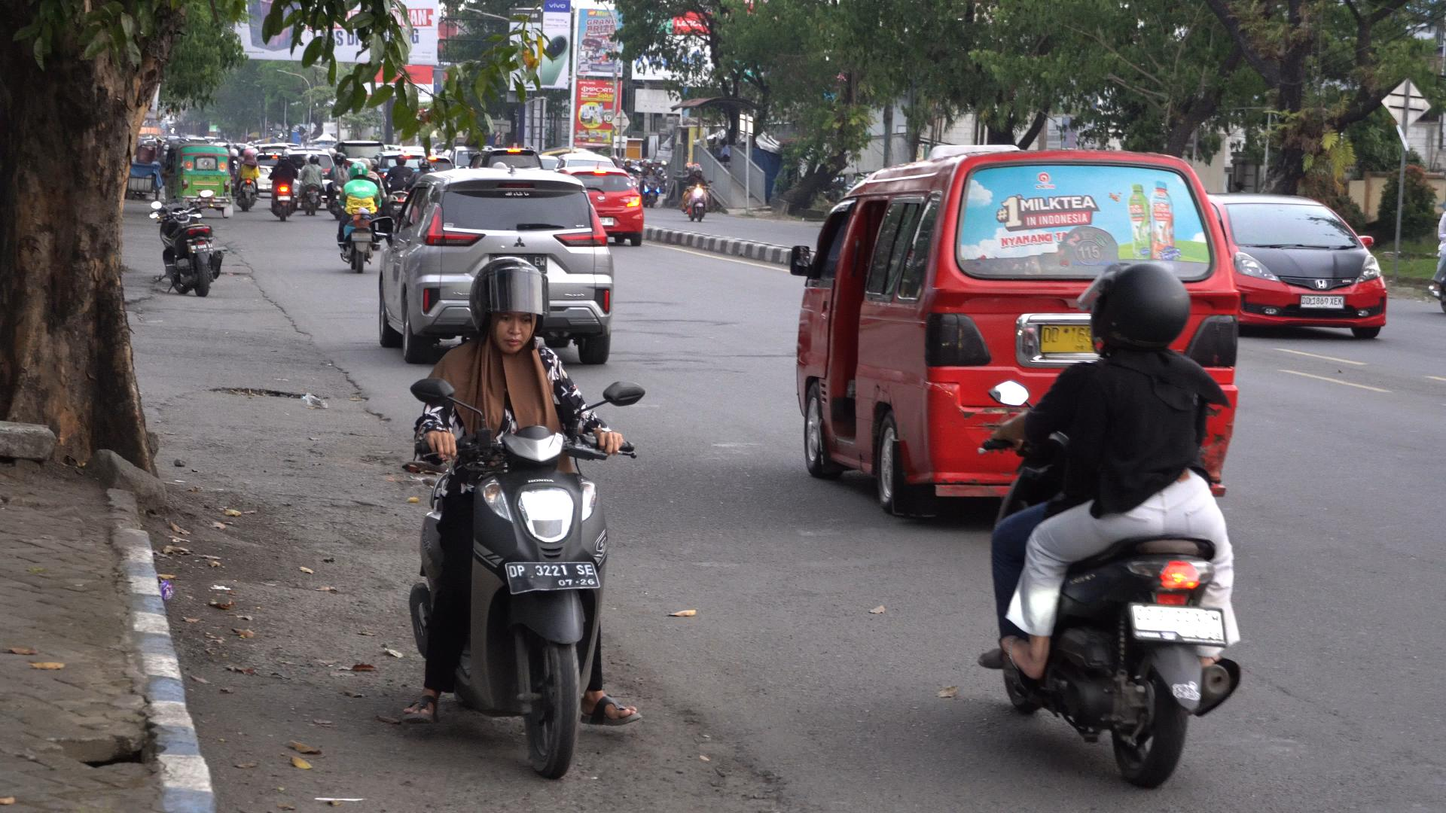number-plate: (508, 557, 604, 593)
